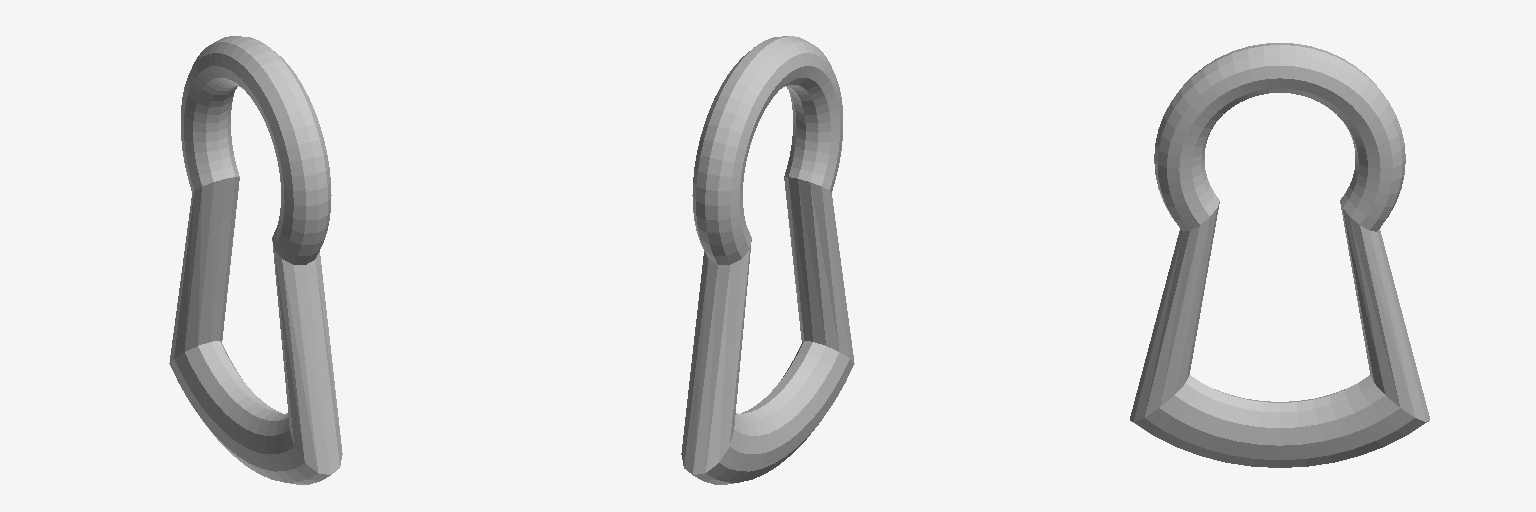
Rendered from CopperKeyHole.obj.
3 renders of one model, left to right at view 1: azimuth 30°, elevation 25°; view 2: azimuth 150°, elevation 25°; view 3: azimuth 270°, elevation 25°, orthographic.
Visible parts, largest first — view 1: CopperKeyHole2_Torus.002; view 2: CopperKeyHole2_Torus.002; view 3: CopperKeyHole2_Torus.002.
Boxes of the visible parts, x1,y1,x2,y2 form: CopperKeyHole2_Torus.002: [169, 36, 342, 484]; CopperKeyHole2_Torus.002: [681, 36, 854, 484]; CopperKeyHole2_Torus.002: [1130, 43, 1429, 467].
Bounding box in the file's own units: 0.0117 × 0.1084 × 0.0701.